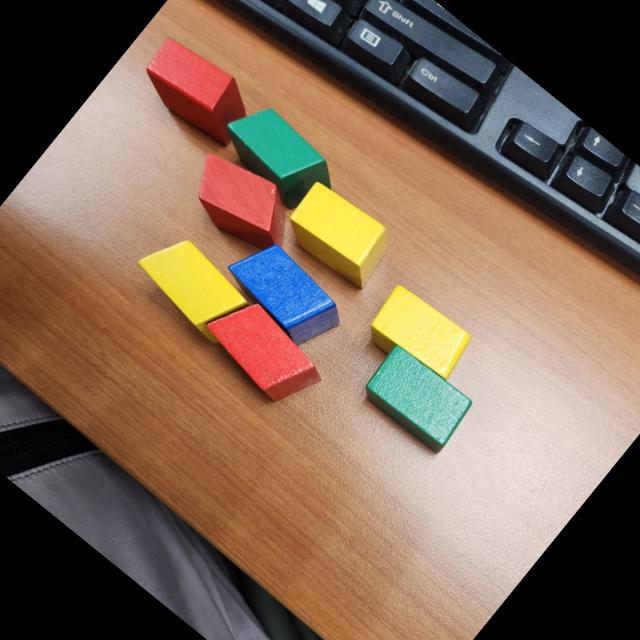blue: (212, 228, 356, 362)
green: (208, 89, 355, 227), (356, 341, 480, 458)
red: (172, 137, 312, 270), (193, 286, 334, 418), (130, 28, 266, 156)
yellow: (125, 222, 260, 350), (276, 174, 402, 293), (358, 278, 479, 394)
